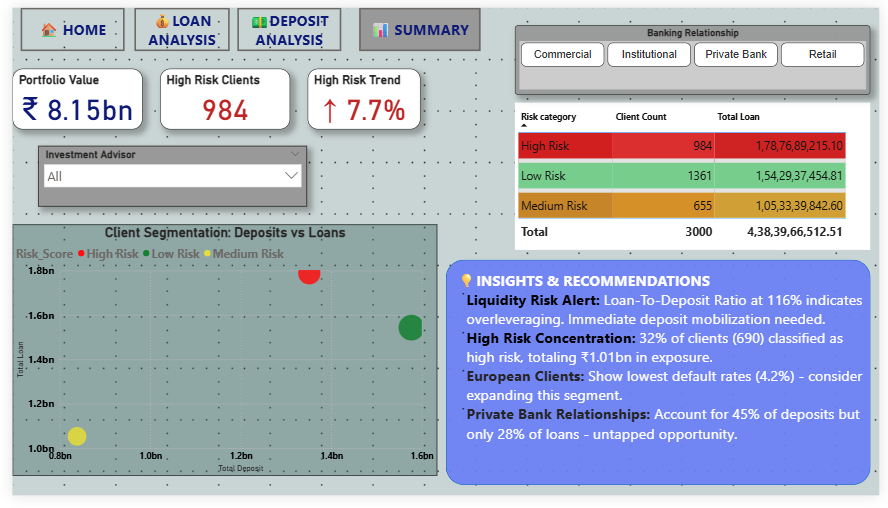

This screenshot's page, from the dashboard's own definition file:
{"tool":"powerbi","page":{"name":"SUMMARY","canvas":[1600,900],"ordinal":3},"visuals":[{"type":"card","title":"Portfolio Value","fields":{"Values":["banking_client.Portfolio Value"]},"box":[0,112,240,112],"z":0},{"type":"card","title":"High Risk Clients","fields":{"Values":["banking_client.High Risk Clients"]},"box":[272,112,240,112],"z":1000},{"type":"card","title":"High Risk Trend","fields":{"Values":["banking_client.High_Risk_Trend"]},"box":[544,112,208,112],"z":2000},{"type":"actionButton","box":[640,0,224,80],"z":3000},{"type":"actionButton","box":[224,0,176,80],"z":4000},{"type":"actionButton","box":[416,0,192,80],"z":5000},{"type":"actionButton","box":[16,0,192,80],"z":6000},{"type":"shape","box":[800,464,784,416],"z":7000},{"type":"textbox","box":[816,480,768,384],"z":8000},{"type":"tableEx","fields":{"Values":["banking_client.Risk_Score","banking_client.Client ID","banking_client.Total Loan"]},"box":[928,176,656,272],"z":9000},{"type":"ChicletSlicer1448559807354","title":"Banking Relationship","fields":{"Category":["banking_realtionships.Banking Relationship"]},"box":[928,32,656,128],"z":10000},{"type":"slicer","fields":{"Values":["investment_advisiors.Investment Advisor"]},"box":[48,256,496,112],"z":11000},{"type":"scatterChart","title":"Client Segmentation: Deposits vs Loans","fields":{"Series":["banking_client.Risk_Score"],"Y":["banking_client.Total Loan"],"X":["banking_client.Total Deposit"],"Size":["banking_client.Total Clients"]},"box":[0,400,784,464],"z":12000}]}

Visuals, with their boxes in screenshot pixels (x1, y1, x2, y2), scaled from the page's 1600x900 canvas onto the 888x508 screenshot:
"Portfolio Value" card: (left=0, top=63, right=133, bottom=126)
"High Risk Clients" card: (left=151, top=63, right=284, bottom=126)
"High Risk Trend" card: (left=302, top=63, right=417, bottom=126)
actionButton: (left=355, top=0, right=480, bottom=45)
actionButton: (left=124, top=0, right=222, bottom=45)
actionButton: (left=231, top=0, right=337, bottom=45)
actionButton: (left=9, top=0, right=115, bottom=45)
shape: (left=444, top=262, right=879, bottom=497)
textbox: (left=453, top=271, right=879, bottom=488)
tableEx - banking_client.Risk_Score x banking_client.Client ID: (left=515, top=99, right=879, bottom=253)
"Banking Relationship" ChicletSlicer1448559807354: (left=515, top=18, right=879, bottom=90)
slicer - investment_advisiors.Investment Advisor: (left=27, top=144, right=302, bottom=208)
"Client Segmentation: Deposits vs Loans" scatterChart: (left=0, top=226, right=435, bottom=488)
